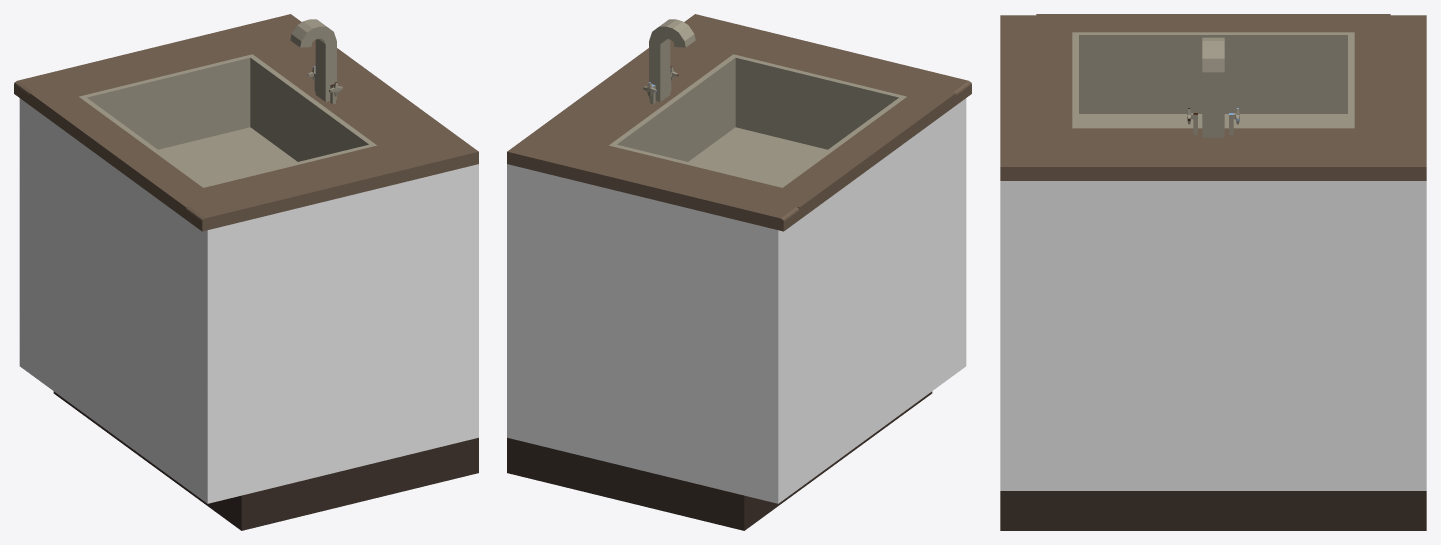
Rendered from Wasbak.fbx.
3 renders of one model, left to right at view 1: azimuth 30°, elevation 25°; view 2: azimuth 150°, elevation 25°; view 3: azimuth 270°, elevation 25°, orthographic. The views are drawn at different scales.
Visible parts, largest first — view 1: Cube; view 2: Cube; view 3: Cube.
Boxes of the visible parts, bbox=[...] form: Cube: bbox=[14, 14, 478, 530]; Cube: bbox=[507, 14, 971, 530]; Cube: bbox=[1000, 14, 1426, 530].
Bounding box in the file's own units: 212 × 291 × 249.
